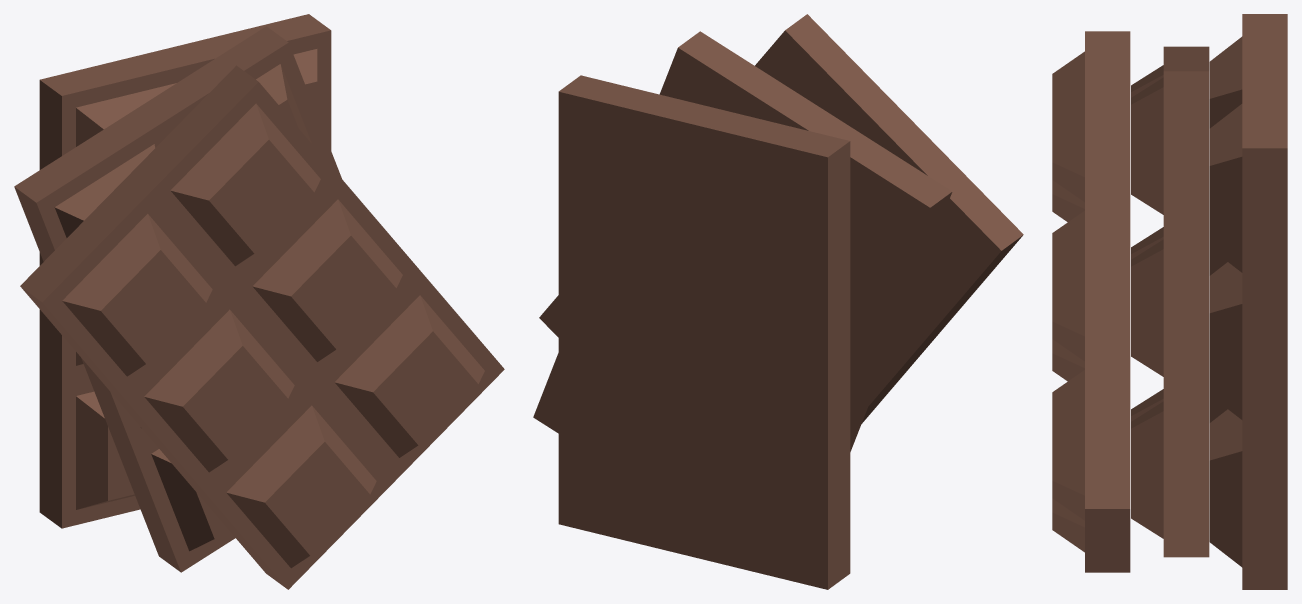
Rendered from a2432703-e3af-499e-bacb-f6112c345e35.glb.
3 views of the same model, side by side, from view 1: azimuth 30°, elevation 25°; view 2: azimuth 150°, elevation 25°; view 3: azimuth 270°, elevation 25° (orthographic). The views are drawn at different scales.
Parts seen in each view (by area): view 1: pCube99; view 2: pCube99; view 3: pCube99.
Boxes of the visible parts, box(x1,y1,x2,y2) form: pCube99: box(14, 14, 504, 589); pCube99: box(533, 14, 1023, 589); pCube99: box(1052, 14, 1287, 589).
Size of the model in its own units: 216 by 230 by 93.44.
